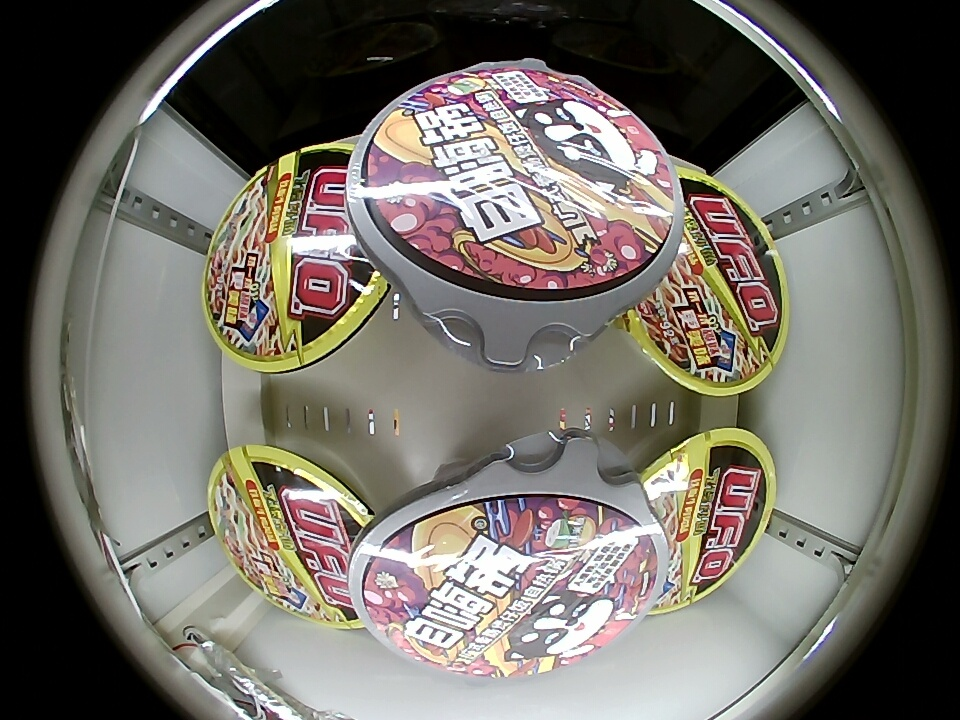ufo: (203, 143, 388, 372), (622, 162, 790, 394), (208, 445, 374, 629), (637, 429, 777, 614)
zihaiguo: (364, 67, 674, 293), (363, 493, 657, 678)
